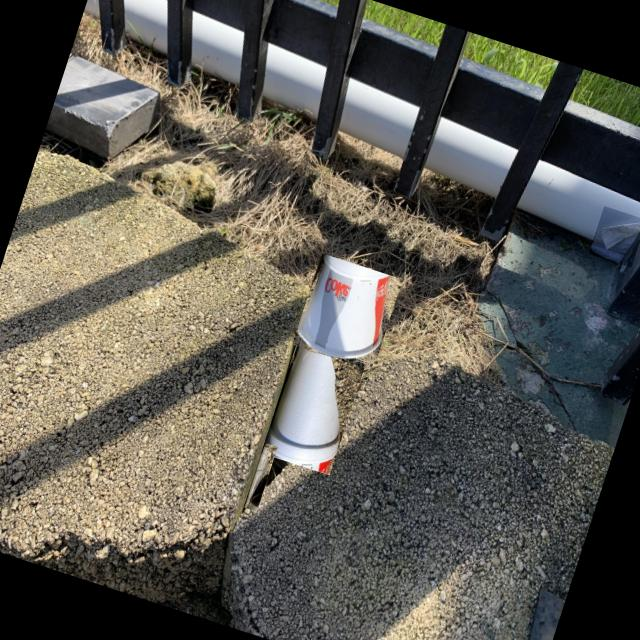Foam cup: (265, 335, 341, 466)
Paper cup: (299, 262, 391, 359)
Plastic film: (245, 445, 270, 509)
Unlabeled litter: (591, 222, 640, 264)
